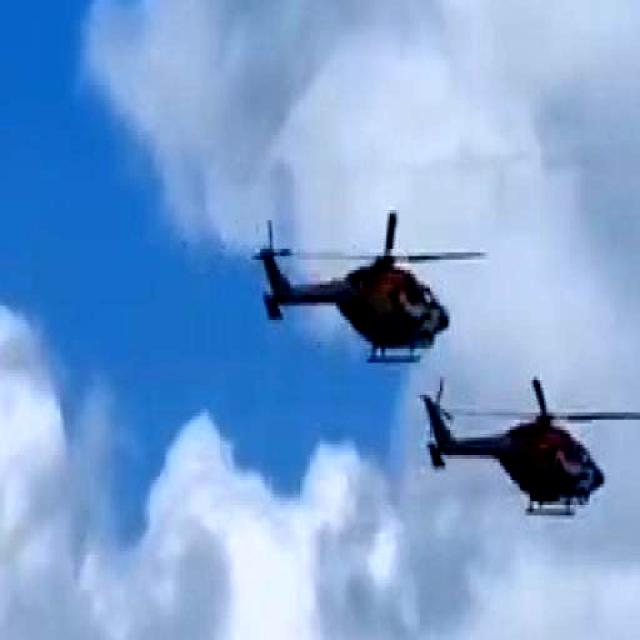drone: (258, 202, 491, 365), (428, 384, 639, 524)
